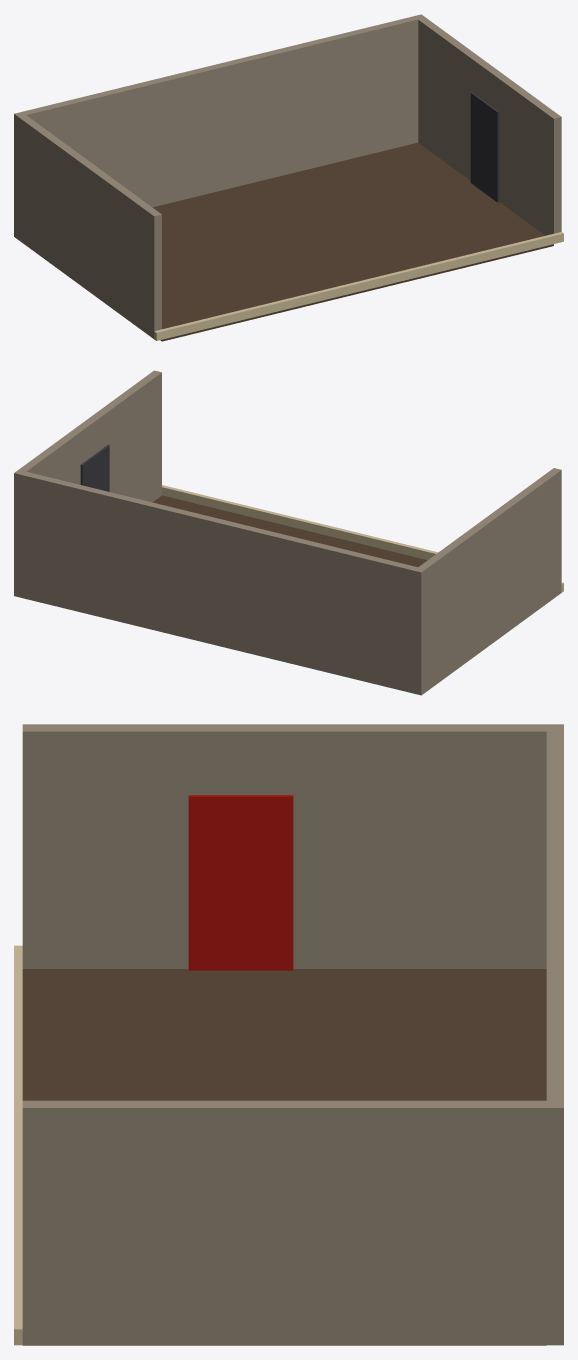
The model's file is dressing.obj.
3 renders of one model, top to bottom at view 1: azimuth 30°, elevation 25°; view 2: azimuth 150°, elevation 25°; view 3: azimuth 270°, elevation 25°, orthographic. The views are drawn at different scales.
Size of the model in its own units: 10.4 by 3.1 by 6.3.
